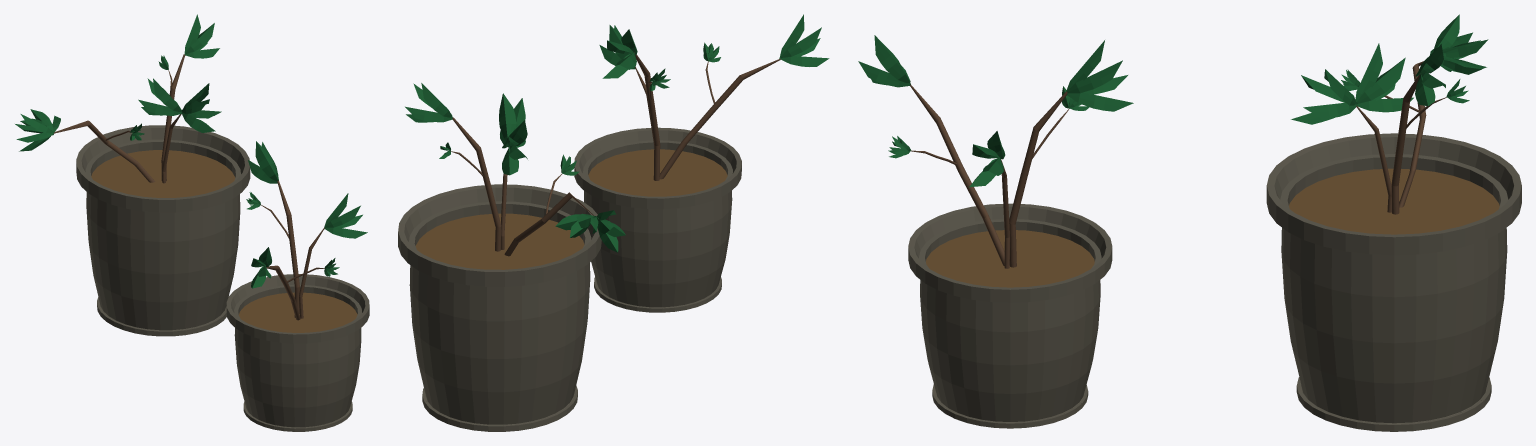
The model's file is pot with plant.fbx.
3 views of the same model, side by side, from view 1: azimuth 30°, elevation 25°; view 2: azimuth 150°, elevation 25°; view 3: azimuth 270°, elevation 25° (orthographic). The views are drawn at different scales.
Visible parts, largest first — view 1: Cylinder.002, Cylinder, Plane.001, Plane, Cylinder.001, Cylinder.003; view 2: Cylinder.002, Cylinder, Plane.001, Plane, Cylinder.003, Cylinder.001; view 3: Cylinder.002, Cylinder, Plane.001, Plane, Cylinder.001, Cylinder.003.
Part boxes in pixels (x1,y1,x2,y2): Cylinder.002: [76, 125, 250, 336]; Cylinder: [226, 274, 369, 431]; Plane.001: [15, 14, 221, 151]; Plane: [246, 141, 367, 288]; Cylinder.001: [261, 180, 324, 320]; Cylinder.003: [53, 54, 185, 183]; Cylinder.002: [398, 184, 601, 431]; Cylinder: [574, 127, 741, 312]; Plane.001: [405, 83, 625, 252]; Plane: [599, 14, 829, 91]; Cylinder.003: [451, 117, 594, 256]; Cylinder.001: [634, 52, 780, 180]; Cylinder.002: [1266, 133, 1521, 431]; Cylinder: [908, 203, 1112, 428]; Plane.001: [1291, 14, 1488, 124]; Plane: [858, 35, 1133, 187]; Cylinder.001: [910, 85, 1069, 268]; Cylinder.003: [1356, 61, 1446, 214].
Bounding box in the file's own units: 371 × 477 × 741.
